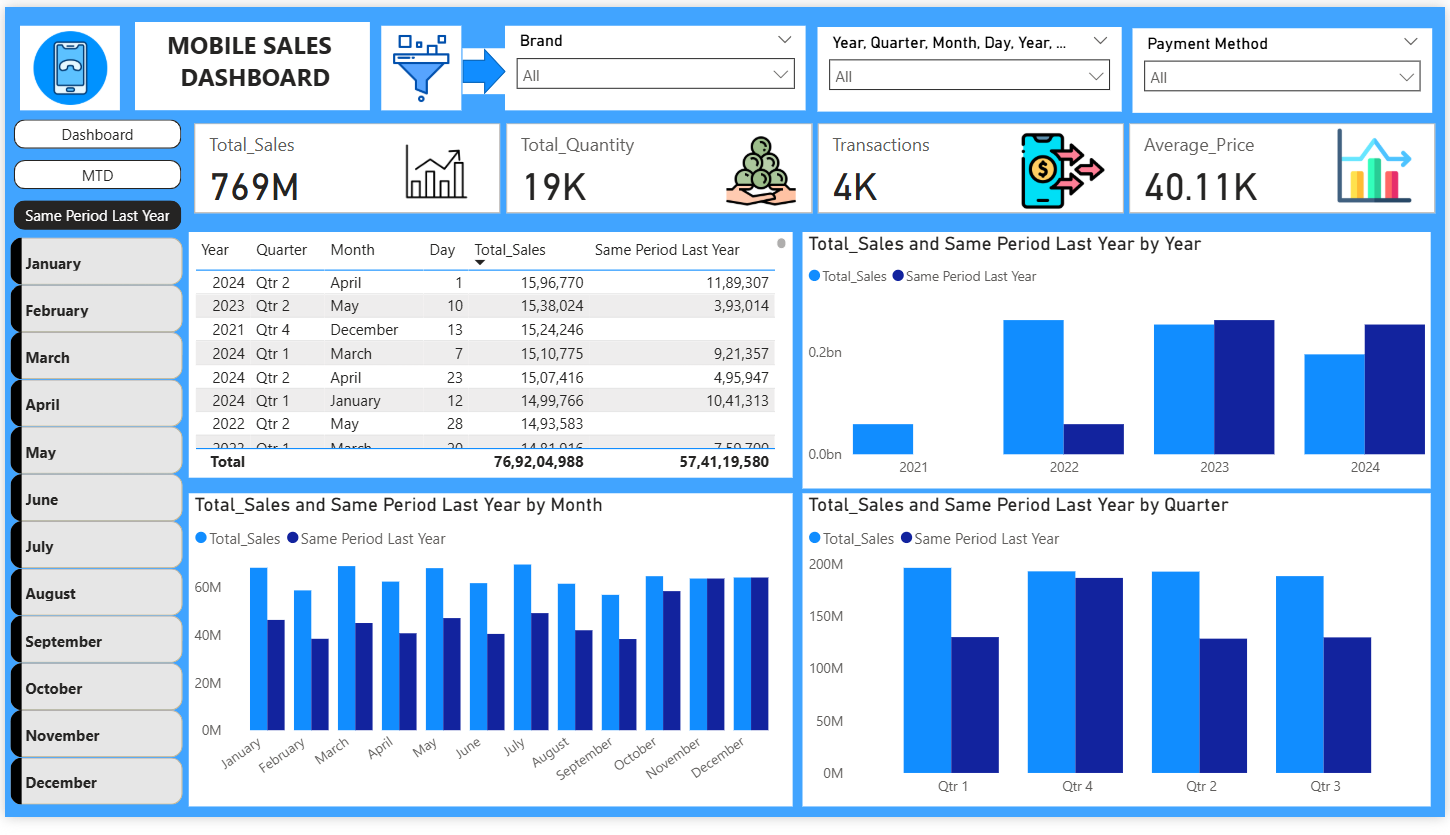

This screenshot's page, from the dashboard's own definition file:
{"tool":"powerbi","page":{"name":"Same Period Last Year","canvas":[1280,720],"ordinal":2},"visuals":[{"type":"advancedSlicerVisual","fields":{"Values":["Custom_Calender.Date.Variation.Date Hierarchy.Month"]},"box":[0,200.3,163.3,520.1],"z":0},{"type":"slicer","fields":{"Values":["Custom_Calender.Date.Variation.Date Hierarchy.Year","Custom_Calender.Date.Variation.Date Hierarchy.Quarter","Custom_Calender.Date.Variation.Date Hierarchy.Month","Custom_Calender.Date.Variation.Date Hierarchy.Day","Custom_Calender.Date.Variation.Date Hierarchy.Year","Custom_Calender.Date.Variation.Date Hierarchy.Quarter","Custom_Calender.Date.Variation.Date Hierarchy.Month","Custom_Calender.Date.Variation.Date Hierarchy.Day"]},"box":[721.8,17.8,270.3,75.5],"z":1000},{"type":"slicer","fields":{"Values":["Sales_Data.Payment Method"]},"box":[1001.7,19.2,266.2,75.5],"z":2000},{"type":"cardVisual","fields":{"Data":["Sales_Data.Total_Sales","Sales_Data.Total_Quantity","Sales_Data.Transactions","Sales_Data.Average_Price"]},"box":[163.3,102.9,1117,85.1],"z":3000},{"type":"slicer","fields":{"Values":["Sales_Data.Brand"]},"box":[444.6,16.5,267.6,75.5],"z":4000},{"type":"image","box":[344.4,102.9,78.2,85.1],"z":5000},{"type":"image","box":[634,102.9,75.5,85.1],"z":6000},{"type":"image","box":[898.8,102.9,83.7,85.1],"z":7000},{"type":"image","box":[1178.7,102.9,76.8,75.5],"z":8000},{"type":"textbox","box":[115.3,13.7,208.6,78.2],"z":9000},{"type":"image","box":[334.8,16.5,71.4,75.5],"z":10000},{"type":"image","box":[13.7,16.5,89.2,75.5],"z":11000},{"type":"shape","box":[406.2,37,38.4,41.2],"z":12000},{"type":"tableEx","fields":{"Values":["Custom_Calender.Date.Variation.Date Hierarchy.Year","Custom_Calender.Date.Variation.Date Hierarchy.Quarter","Custom_Calender.Date.Variation.Date Hierarchy.Month","Custom_Calender.Date.Variation.Date Hierarchy.Day","Sales_Data.Total_Sales","Sales_Data.Same Period Last Year"]},"box":[163.3,200.3,536.5,218.2],"z":13000},{"type":"clusteredColumnChart","fields":{"Category":["Custom_Calender.Date.Variation.Date Hierarchy.Year","Custom_Calender.Date.Variation.Date Hierarchy.Quarter","Custom_Calender.Date.Variation.Date Hierarchy.Month","Custom_Calender.Date.Variation.Date Hierarchy.Day"],"Y":["Sales_Data.Total_Sales","Sales_Data.Same Period Last Year"]},"box":[709.4,200.3,558.5,227.8],"z":14000},{"type":"clusteredColumnChart","fields":{"Category":["Custom_Calender.Date.Variation.Date Hierarchy.Year","Custom_Calender.Date.Variation.Date Hierarchy.Quarter","Custom_Calender.Date.Variation.Date Hierarchy.Month","Custom_Calender.Date.Variation.Date Hierarchy.Day"],"Y":["Sales_Data.Total_Sales","Sales_Data.Same Period Last Year"]},"box":[163.3,432.2,536.5,278.6],"z":15000},{"type":"clusteredColumnChart","fields":{"Category":["Custom_Calender.Date.Variation.Date Hierarchy.Year","Custom_Calender.Date.Variation.Date Hierarchy.Quarter","Custom_Calender.Date.Variation.Date Hierarchy.Month","Custom_Calender.Date.Variation.Date Hierarchy.Day"],"Y":["Sales_Data.Total_Sales","Sales_Data.Same Period Last Year"]},"box":[709.4,432.2,558.5,278.6],"z":16000},{"type":"pageNavigator","box":[8.2,100.2,149.6,100.2],"z":16001}]}

Visuals, with their boxes in screenshot pixels (x1, y1, x2, y2), scaled from the page's 1280x720 canvas onto the 1450x835 screenshot:
advancedSlicerVisual - Custom_Calender.Date.Variation.Date Hierarchy.Month: 0:232:185:834
slicer - Custom_Calender.Date.Variation.Date Hierarchy.Year x Custom_Calender.Date.Variation.Date Hierarchy.Quarter: 818:21:1124:108
slicer - Sales_Data.Payment Method: 1135:22:1436:110
cardVisual - Sales_Data.Total_Sales x Sales_Data.Total_Quantity: 185:119:1449:218
slicer - Sales_Data.Brand: 504:19:807:107
image: 390:119:479:218
image: 718:119:804:218
image: 1018:119:1113:218
image: 1335:119:1422:207
textbox: 131:16:367:107
image: 379:19:460:107
image: 16:19:117:107
shape: 460:43:504:91
tableEx - Custom_Calender.Date.Variation.Date Hierarchy.Year x Custom_Calender.Date.Variation.Date Hierarchy.Quarter: 185:232:793:485
clusteredColumnChart - Custom_Calender.Date.Variation.Date Hierarchy.Year x Custom_Calender.Date.Variation.Date Hierarchy.Quarter: 804:232:1436:496
clusteredColumnChart - Custom_Calender.Date.Variation.Date Hierarchy.Year x Custom_Calender.Date.Variation.Date Hierarchy.Quarter: 185:501:793:824
clusteredColumnChart - Custom_Calender.Date.Variation.Date Hierarchy.Year x Custom_Calender.Date.Variation.Date Hierarchy.Quarter: 804:501:1436:824
pageNavigator: 9:116:179:232
